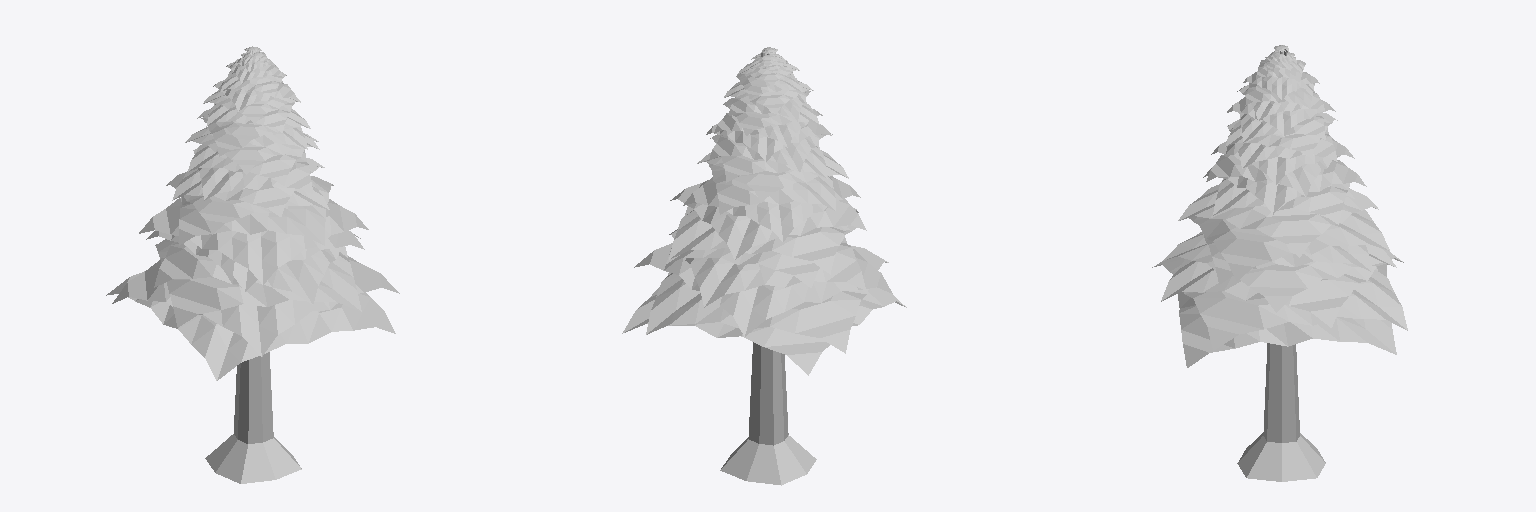
Rendered from game_firtree2.obj.
3 views of the same model, side by side, from view 1: azimuth 30°, elevation 25°; view 2: azimuth 150°, elevation 25°; view 3: azimuth 270°, elevation 25° (orthographic).
Visible parts, largest first — view 1: Plane.001; view 2: Plane.001; view 3: Plane.001.
Boxes of the visible parts, x1=… form: Plane.001: x1=106, y1=46, x2=399, y2=483; Plane.001: x1=622, y1=47, x2=906, y2=485; Plane.001: x1=1152, y1=45, x2=1407, y2=481.
Bounding box in the file's own units: 9.26 × 16.56 × 9.24.